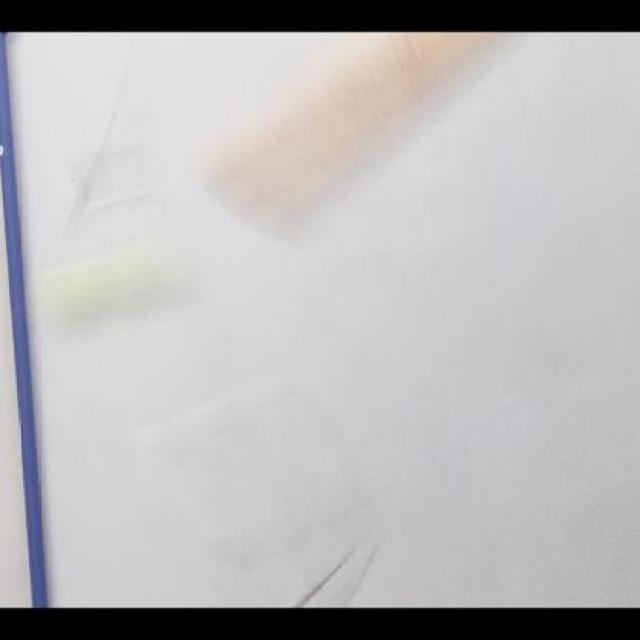baseball: (48, 249, 189, 334)
